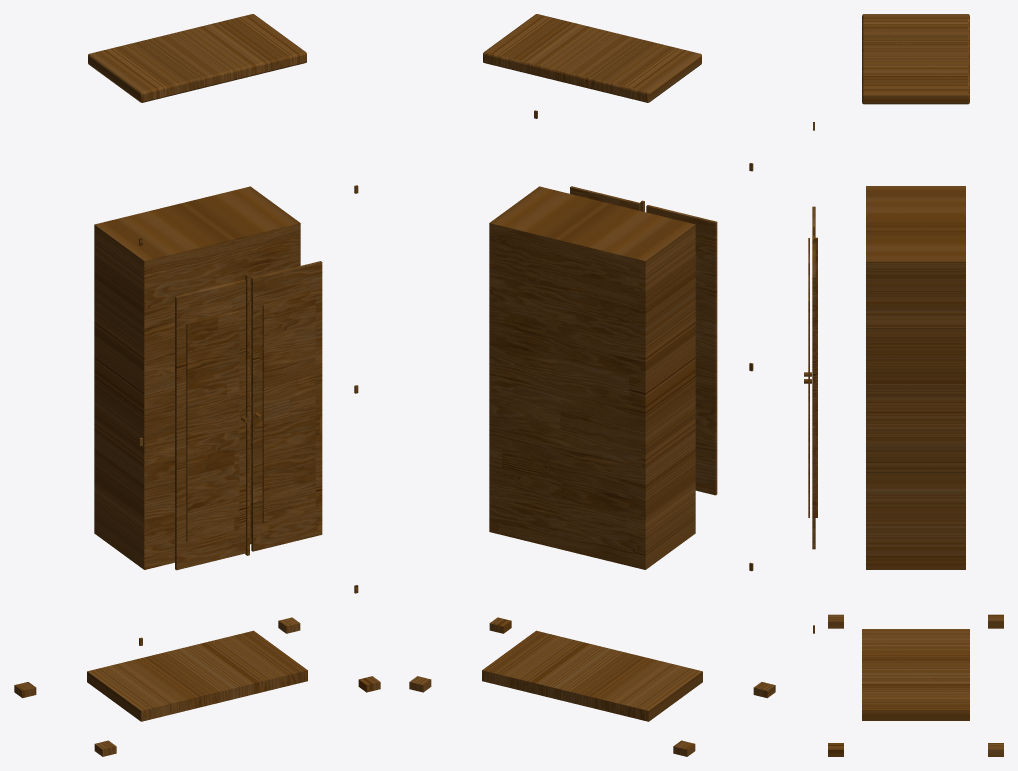
File: wardrobe.glb
3 renders of one model, left to right at view 1: azimuth 30°, elevation 25°; view 2: azimuth 150°, elevation 25°; view 3: azimuth 270°, elevation 25°, orthographic.
Parts seen in each view (by area): view 1: wardrobe; view 2: wardrobe; view 3: wardrobe.
Part boxes in pixels (x1,y1,x2,y2): wardrobe: [14, 14, 380, 756]; wardrobe: [409, 14, 775, 756]; wardrobe: [804, 14, 1003, 756].
Bounding box in the file's own units: 0.8 × 1.75 × 0.5.
Materials: 1 (1 with a texture image).
